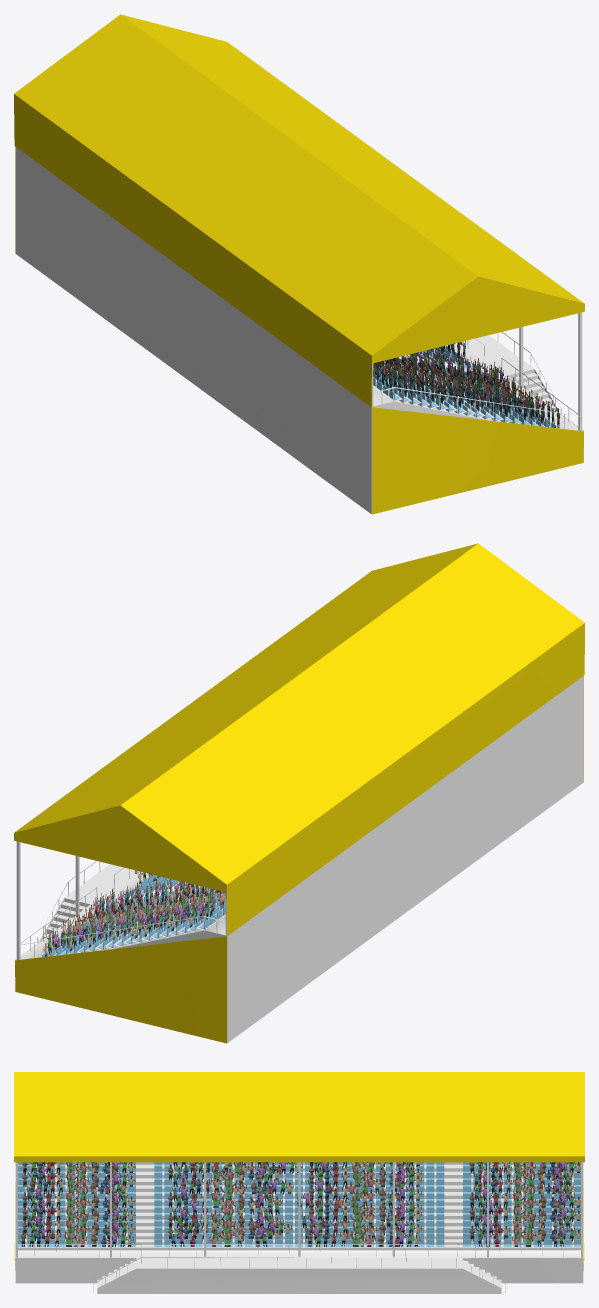
The model's file is Tribune_1_Spectator_LOD1.fbx.
3 views of the same model, one above another, from view 1: azimuth 30°, elevation 25°; view 2: azimuth 150°, elevation 25°; view 3: azimuth 270°, elevation 25° (orthographic). The views are drawn at different scales.
Visible parts, largest first — view 1: Tribune_3_Spectator; view 2: Tribune_3_Spectator; view 3: Tribune_3_Spectator.
Boxes of the visible parts, x1=… form: Tribune_3_Spectator: x1=14, y1=14, x2=584, y2=514; Tribune_3_Spectator: x1=14, y1=543, x2=584, y2=1043; Tribune_3_Spectator: x1=14, y1=1072, x2=584, y2=1293.
Bounding box in the file's own units: 2198 × 1863 × 5678.
Materials: 9 (2 with a texture image).
